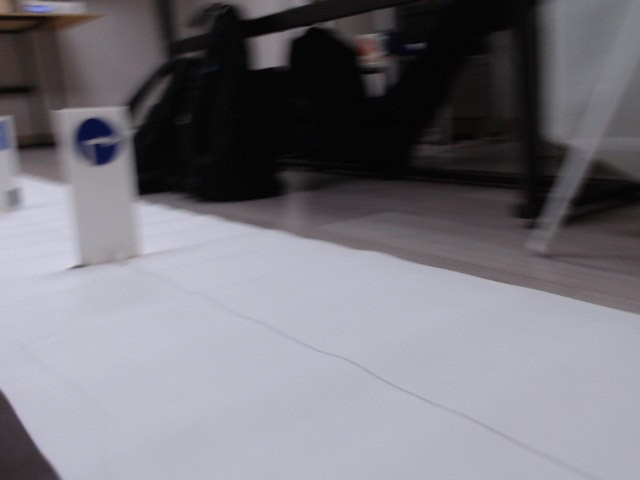Right: (72, 120, 126, 168)
